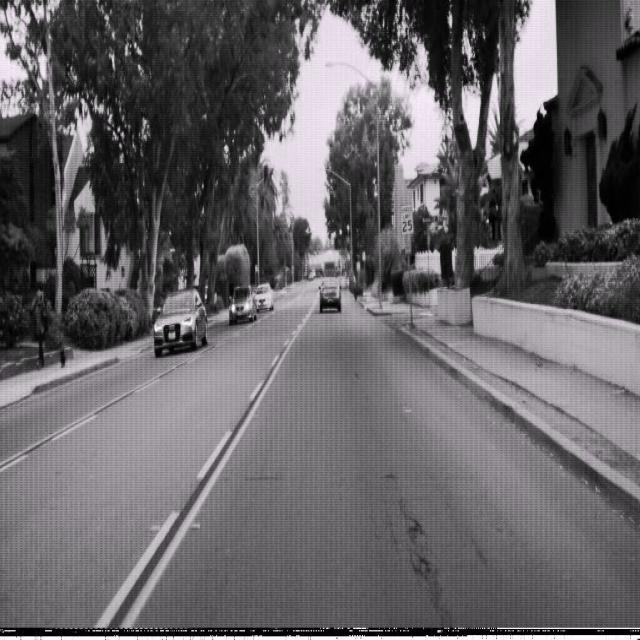speedLimit25: (399, 201, 414, 237)
